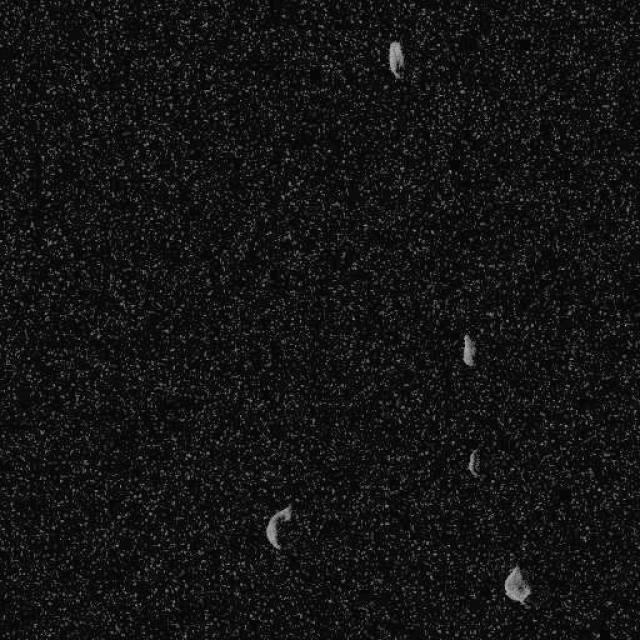D2: (264, 504, 294, 550), (502, 565, 532, 604), (386, 40, 405, 79), (460, 332, 476, 367), (467, 448, 482, 478)
